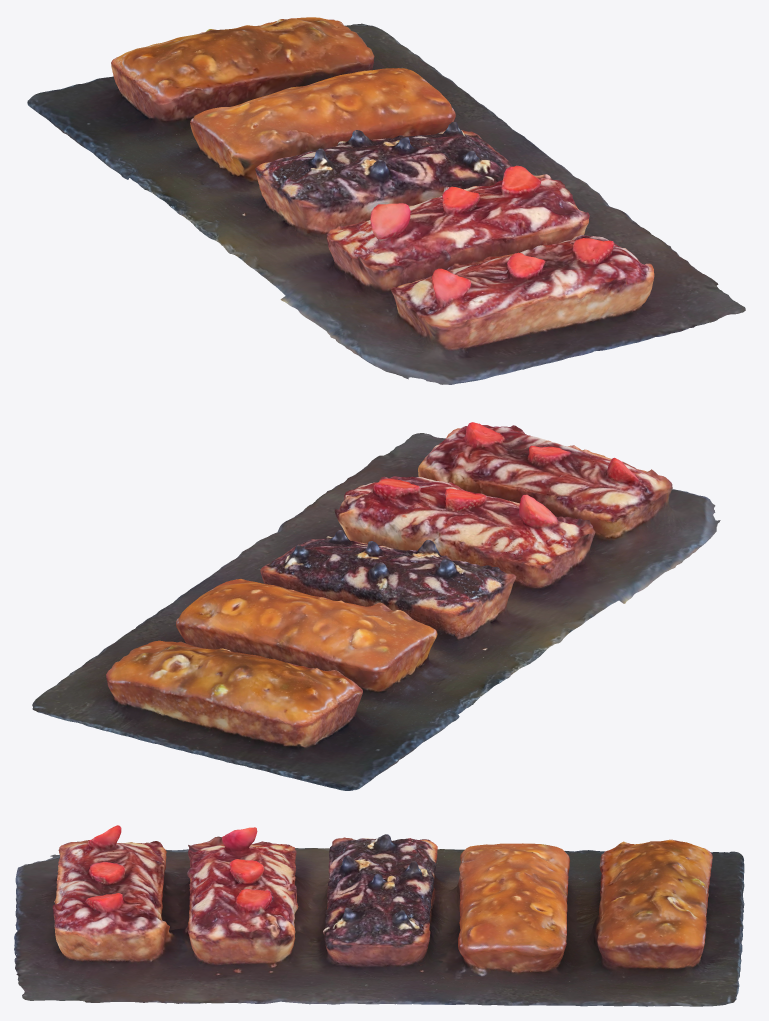
File: 4ta.kaik.toot.farangi.glb
3 renders of one model, top to bottom at view 1: azimuth 30°, elevation 25°; view 2: azimuth 150°, elevation 25°; view 3: azimuth 270°, elevation 25°, orthographic. The views are drawn at different scales.
Visible parts, largest first — view 1: object 1; view 2: object 1; view 3: object 1.
Part boxes in pixels (x1=…): object 1: x1=27, y1=17, x2=745, y2=384; object 1: x1=32, y1=422, x2=720, y2=790; object 1: x1=14, y1=825, x2=744, y2=1006.
Bounding box in the file's own units: 0.161 × 0.0325 × 0.3138.
Materials: 2 (1 with a texture image).
